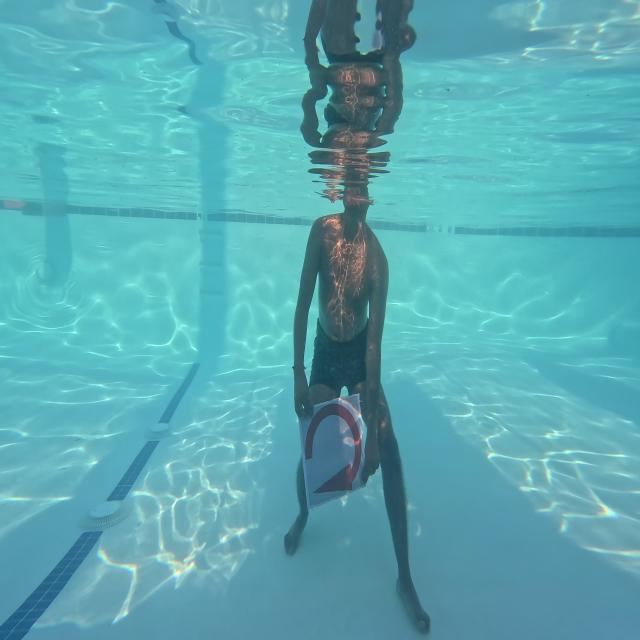red_side: (296, 397, 364, 507)
